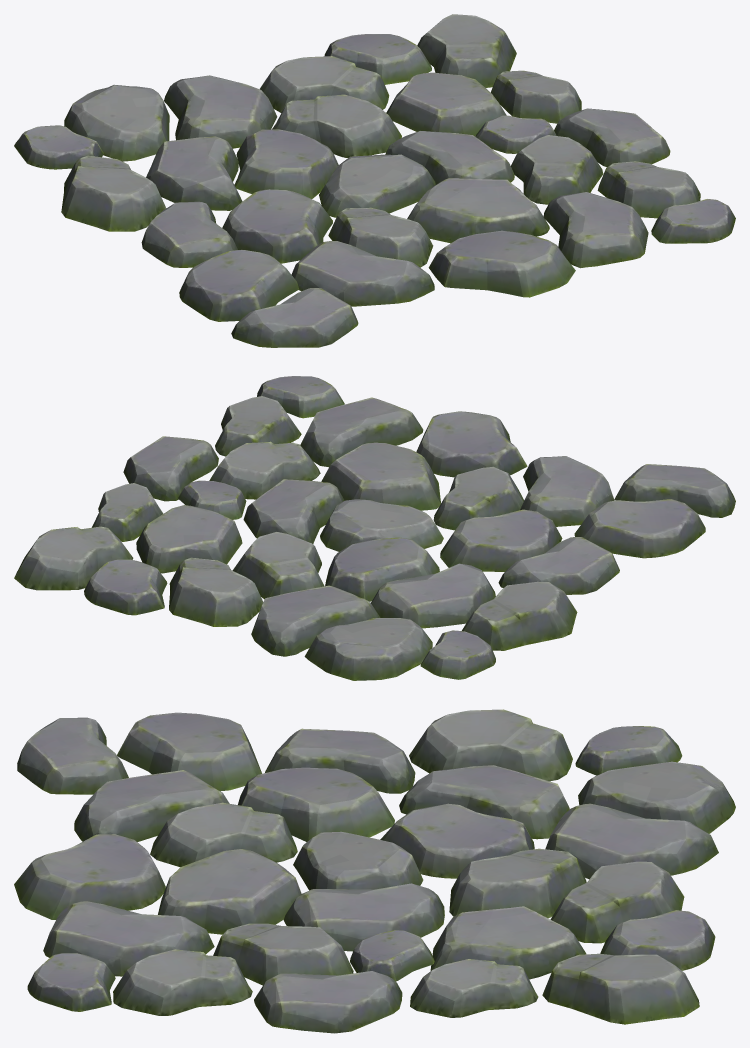
File: n_RockPath_Round_Wide.glb
The picture shows the model from 3 angles, top to bottom: view 1: azimuth 30°, elevation 25°; view 2: azimuth 150°, elevation 25°; view 3: azimuth 270°, elevation 25°; orthographic projection. The views are drawn at different scales.
Visible parts, largest first — view 1: RockPath_Round_Wide; view 2: RockPath_Round_Wide; view 3: RockPath_Round_Wide.
Boxes of the visible parts, x1,y1,x2,y2 form: RockPath_Round_Wide: [14, 14, 735, 347]; RockPath_Round_Wide: [14, 376, 735, 680]; RockPath_Round_Wide: [14, 709, 735, 1033].
Size of the model in its own units: 2.11 by 0.1128 by 2.13.
1 material, 1 textured.
